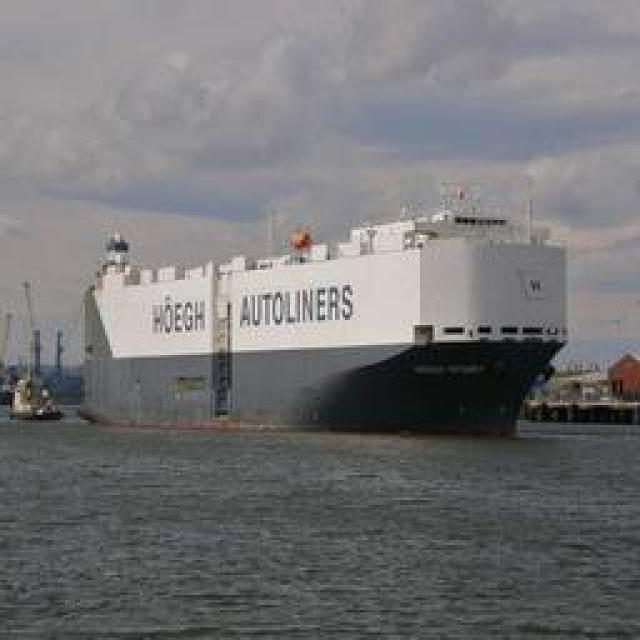Ship: (56, 191, 571, 431)
